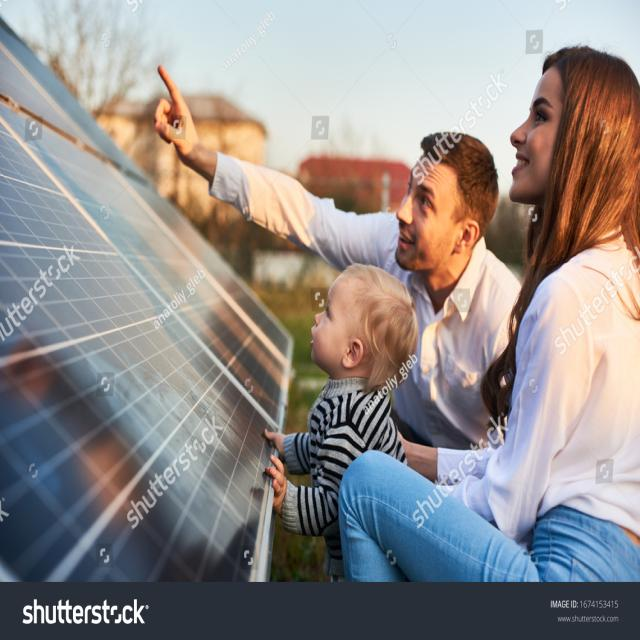clean-solar-panel: (0, 19, 292, 582)
